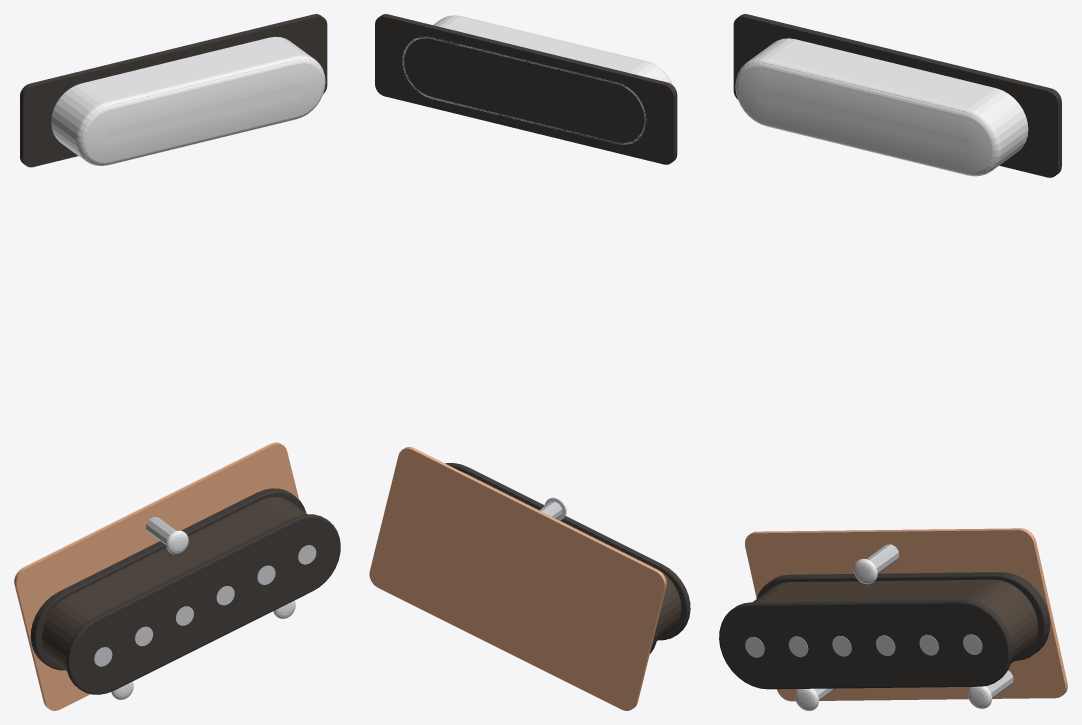
File: pickups.glb
The picture shows the model from 3 angles, left to right: view 1: azimuth 30°, elevation 25°; view 2: azimuth 150°, elevation 25°; view 3: azimuth 330°, elevation 25°; orthographic projection. The views are drawn at different scales.
Parts seen in each view (by area): view 1: neck_pu_cover, bridge_pu_flatwork_top, bridge_pu_baseplate, bridge_pu_coil, neck_pu_flatwork, bridge_pu_flatwork_bottom; view 2: bridge_pu_baseplate, neck_pu_flatwork, neck_pu_cover, bridge_pu_flatwork_top, bridge_pu_coil; view 3: neck_pu_cover, bridge_pu_flatwork_top, bridge_pu_baseplate, neck_pu_flatwork, bridge_pu_coil, bridge_pu_flatwork_bottom.
Boxes of the visible parts, x1,y1,x2,y2 form: neck_pu_cover: [51, 36, 325, 165]; bridge_pu_flatwork_top: [66, 514, 340, 694]; bridge_pu_baseplate: [14, 442, 298, 710]; bridge_pu_coil: [42, 497, 307, 670]; neck_pu_flatwork: [20, 14, 327, 167]; bridge_pu_flatwork_bottom: [30, 488, 306, 670]; bridge_pu_baseplate: [369, 447, 666, 710]; neck_pu_flatwork: [375, 14, 677, 164]; neck_pu_cover: [402, 15, 672, 144]; bridge_pu_flatwork_top: [445, 463, 690, 640]; bridge_pu_coil: [461, 471, 681, 640]; neck_pu_cover: [735, 38, 1028, 176]; bridge_pu_flatwork_top: [719, 599, 1012, 689]; bridge_pu_baseplate: [745, 528, 1067, 701]; neck_pu_flatwork: [733, 14, 1061, 177]; bridge_pu_coil: [752, 579, 1037, 663]; bridge_pu_flatwork_bottom: [756, 572, 1050, 660].
Bounding box in the file's own units: 0.0796 × 0.1599 × 0.0186.
